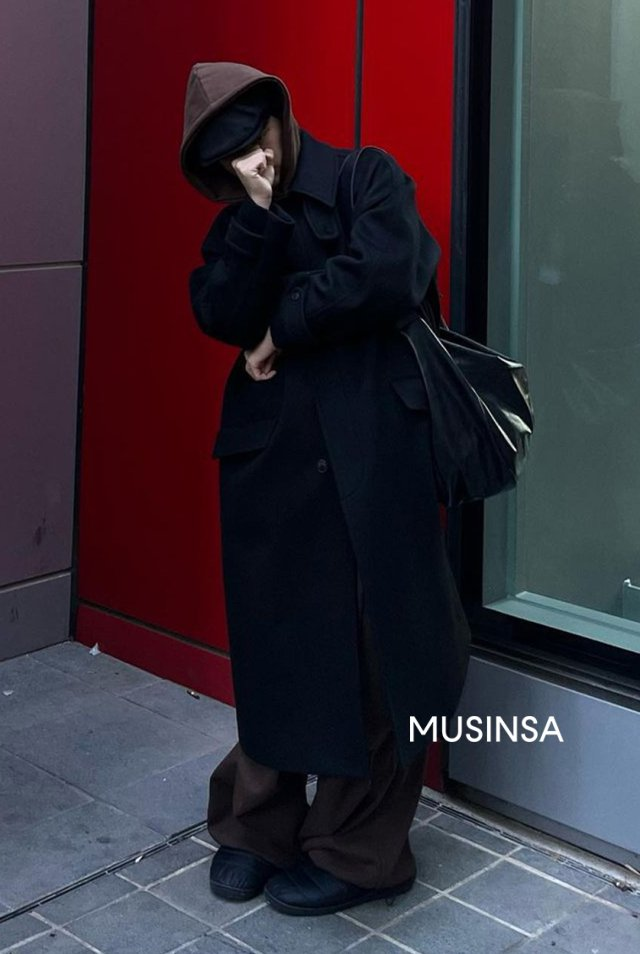Bag: (388, 306, 550, 514)
Coat: (183, 137, 491, 778)
Hoodie: (156, 56, 308, 184)
Pants: (209, 735, 422, 877)
Shoes: (198, 835, 431, 912)
